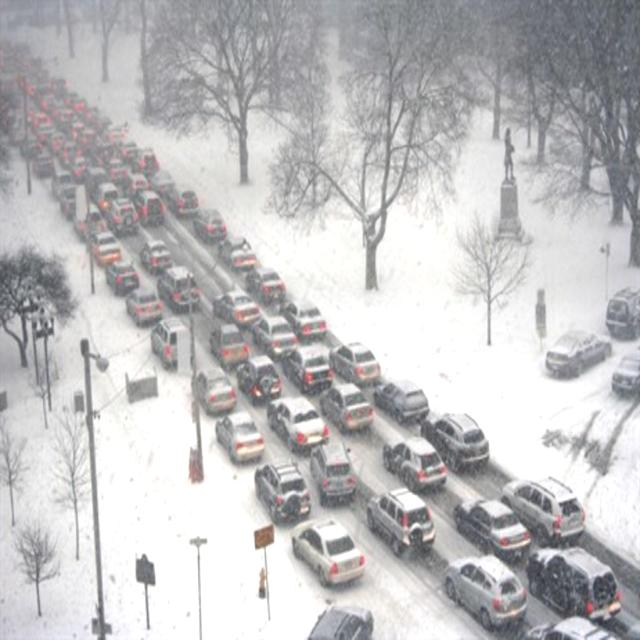Car: (526, 544, 622, 620), (444, 554, 527, 632), (502, 475, 586, 547), (289, 518, 367, 587), (452, 495, 531, 562), (365, 488, 438, 558), (421, 413, 490, 473), (253, 458, 312, 525), (382, 435, 448, 494), (268, 396, 328, 453), (545, 329, 613, 378), (309, 442, 358, 506), (215, 410, 266, 466), (373, 376, 430, 426), (320, 382, 374, 434), (283, 344, 333, 394), (305, 603, 374, 639), (524, 615, 622, 640), (330, 340, 381, 386), (235, 355, 280, 407), (191, 365, 237, 415), (208, 319, 250, 370), (252, 311, 298, 357), (157, 266, 199, 312), (150, 318, 188, 368), (605, 285, 640, 339), (212, 287, 260, 326), (284, 300, 328, 340), (125, 286, 164, 326), (245, 269, 287, 306), (219, 234, 258, 272), (610, 350, 640, 397), (105, 197, 140, 236), (105, 260, 140, 297), (192, 208, 228, 243), (134, 189, 166, 228), (90, 231, 123, 267), (139, 240, 173, 274), (168, 187, 200, 218), (52, 174, 78, 208), (124, 172, 150, 200), (132, 149, 161, 174), (96, 183, 120, 213), (150, 169, 176, 195), (60, 186, 81, 218), (86, 167, 107, 197), (60, 141, 82, 169), (32, 153, 56, 177), (105, 159, 128, 182), (70, 157, 88, 183), (48, 132, 66, 154)
